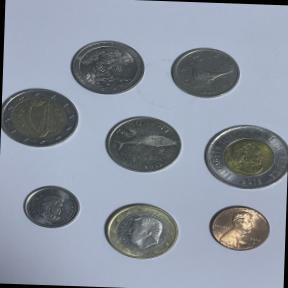coin: (196, 118, 288, 200), (97, 109, 188, 183), (97, 199, 186, 266), (0, 84, 83, 155), (66, 37, 148, 98), (202, 200, 274, 255), (17, 182, 82, 234)
